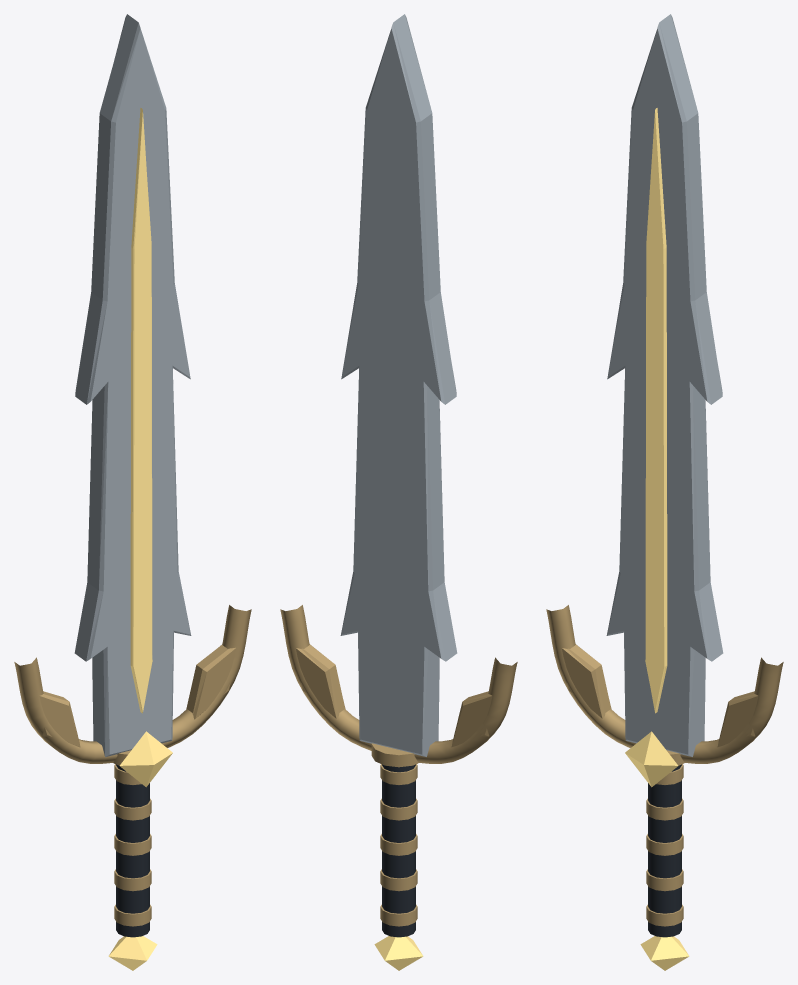
File: universal-high.glb
3 views of the same model, side by side, from view 1: azimuth 30°, elevation 25°; view 2: azimuth 150°, elevation 25°; view 3: azimuth 330°, elevation 25° (orthographic).
Parts seen in each view (by area): view 1: Grovekeeper Blade; view 2: Grovekeeper Blade; view 3: Grovekeeper Blade.
Part boxes in pixels (x1,y1,x2,y2): Grovekeeper Blade: (14, 14, 251, 970); Grovekeeper Blade: (280, 14, 517, 970); Grovekeeper Blade: (546, 14, 783, 970).
Size of the model in its own units: 0.3018 by 1.19 by 0.0795.
